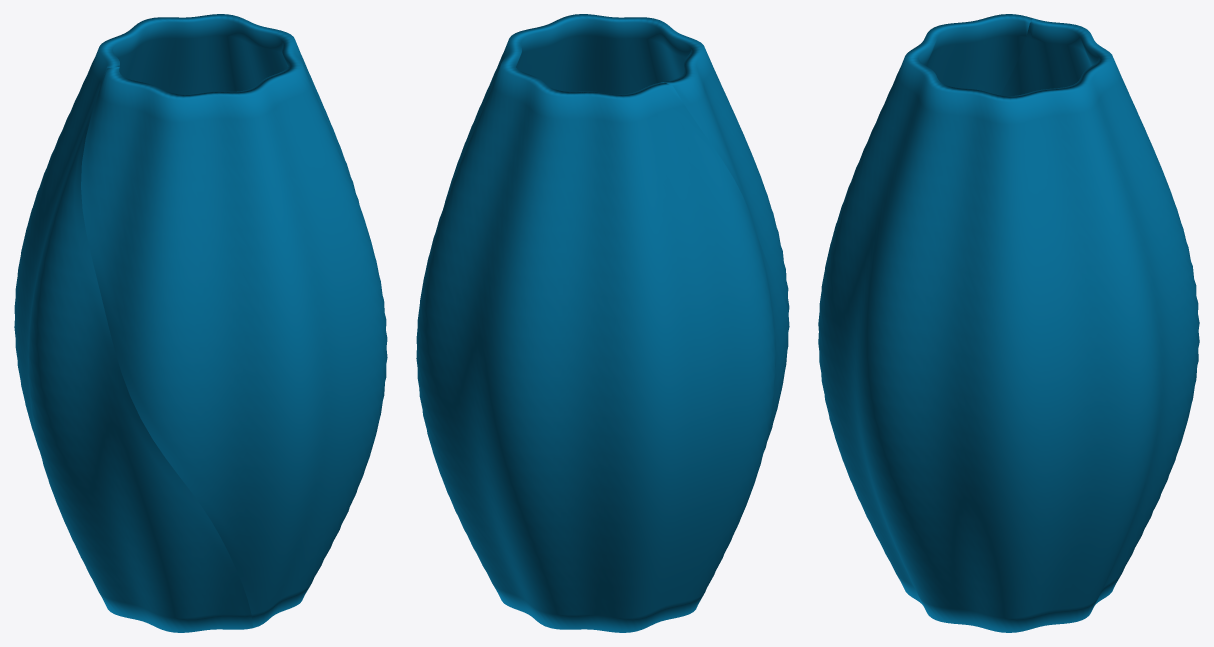
Rendered from jarron-espiral.glb.
The picture shows the model from 3 angles, left to right: view 1: azimuth 30°, elevation 25°; view 2: azimuth 150°, elevation 25°; view 3: azimuth 270°, elevation 25°; orthographic projection.
Parts seen in each view (by area): view 1: jarron-espiral; view 2: jarron-espiral; view 3: jarron-espiral.
Boxes of the visible parts, x1,y1,x2,y2 form: jarron-espiral: (14, 14, 387, 632); jarron-espiral: (416, 14, 789, 632); jarron-espiral: (818, 14, 1199, 632).
Size of the model in its own units: 0.127 by 0.195 by 0.127.
